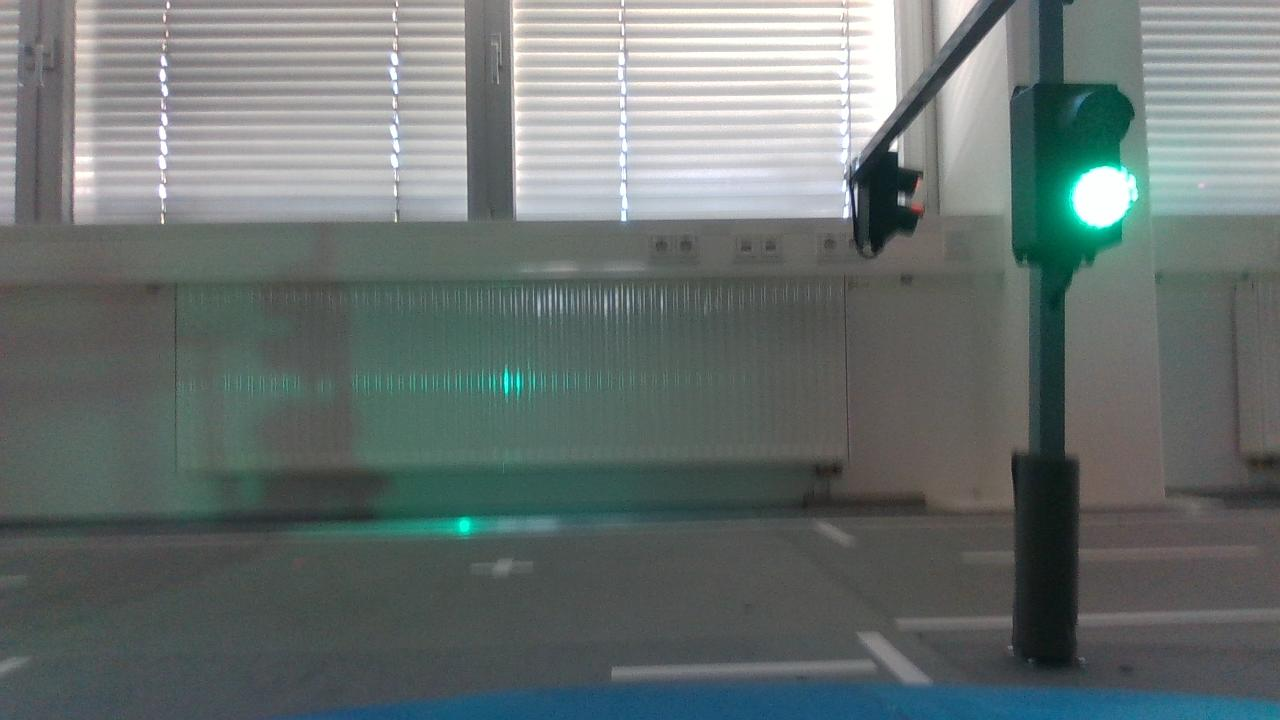traffic_light_green: (998, 65, 1156, 283)
